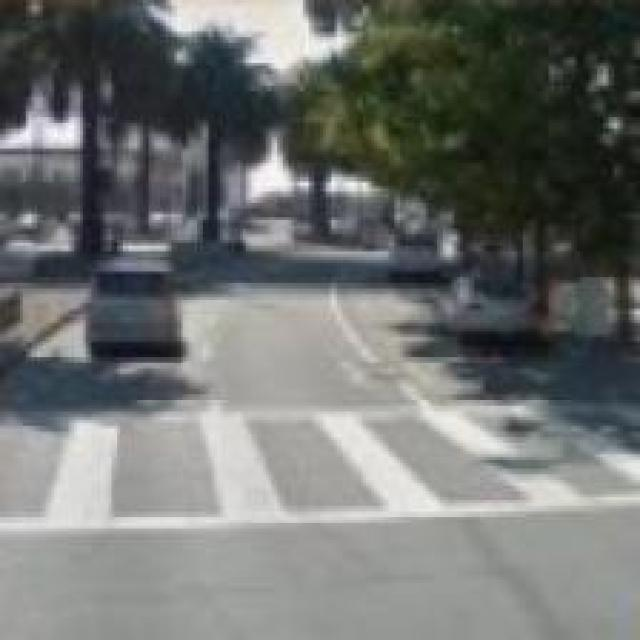walk-crossing: (0, 400, 634, 537)
